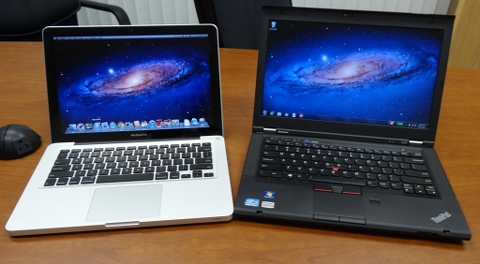pc: (234, 5, 473, 243), (5, 25, 234, 237)
